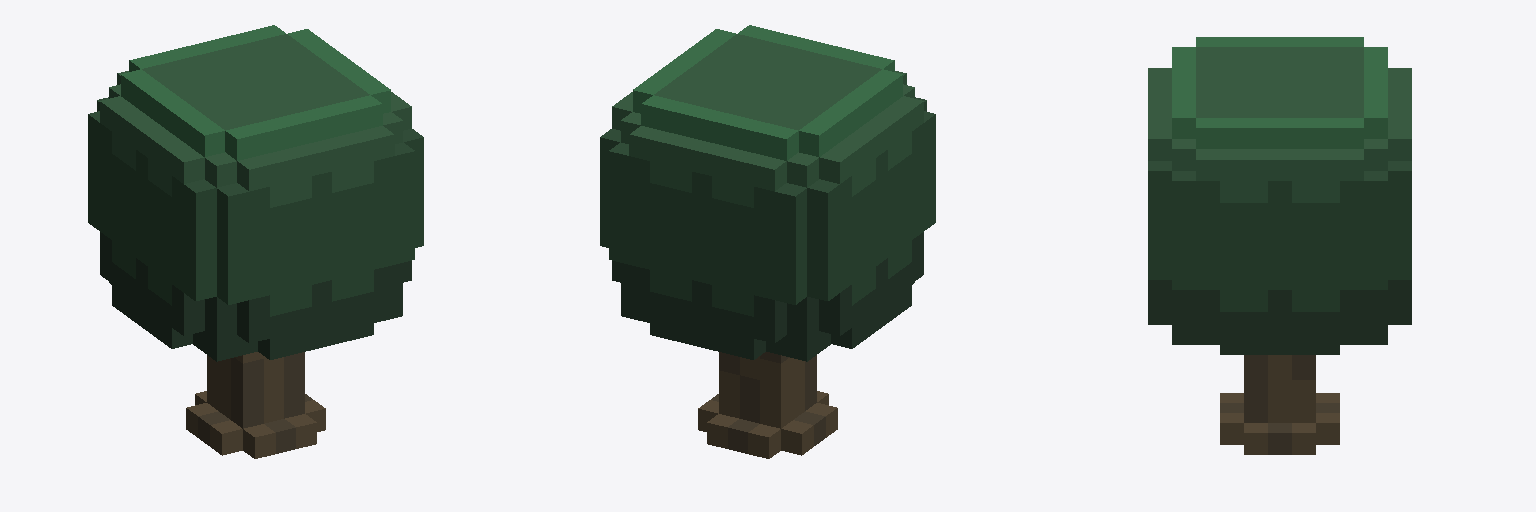
The picture shows the model from 3 angles: view 1: azimuth 30°, elevation 25°; view 2: azimuth 150°, elevation 25°; view 3: azimuth 270°, elevation 25°; orthographic projection.
Visible parts, largest first — view 1: Matrix_2; view 2: Matrix_2; view 3: Matrix_2.
Boxes of the visible parts, <box> form: Matrix_2: <box>88,25,423,458</box>; Matrix_2: <box>600,25,935,458</box>; Matrix_2: <box>1148,37,1411,454</box>.
Size of the model in its own units: 11 by 16 by 11.
1 materials, 1 textured.